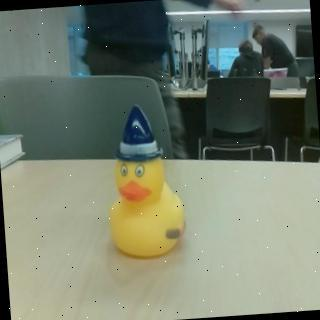duck_specialty: (100, 100, 190, 261)
